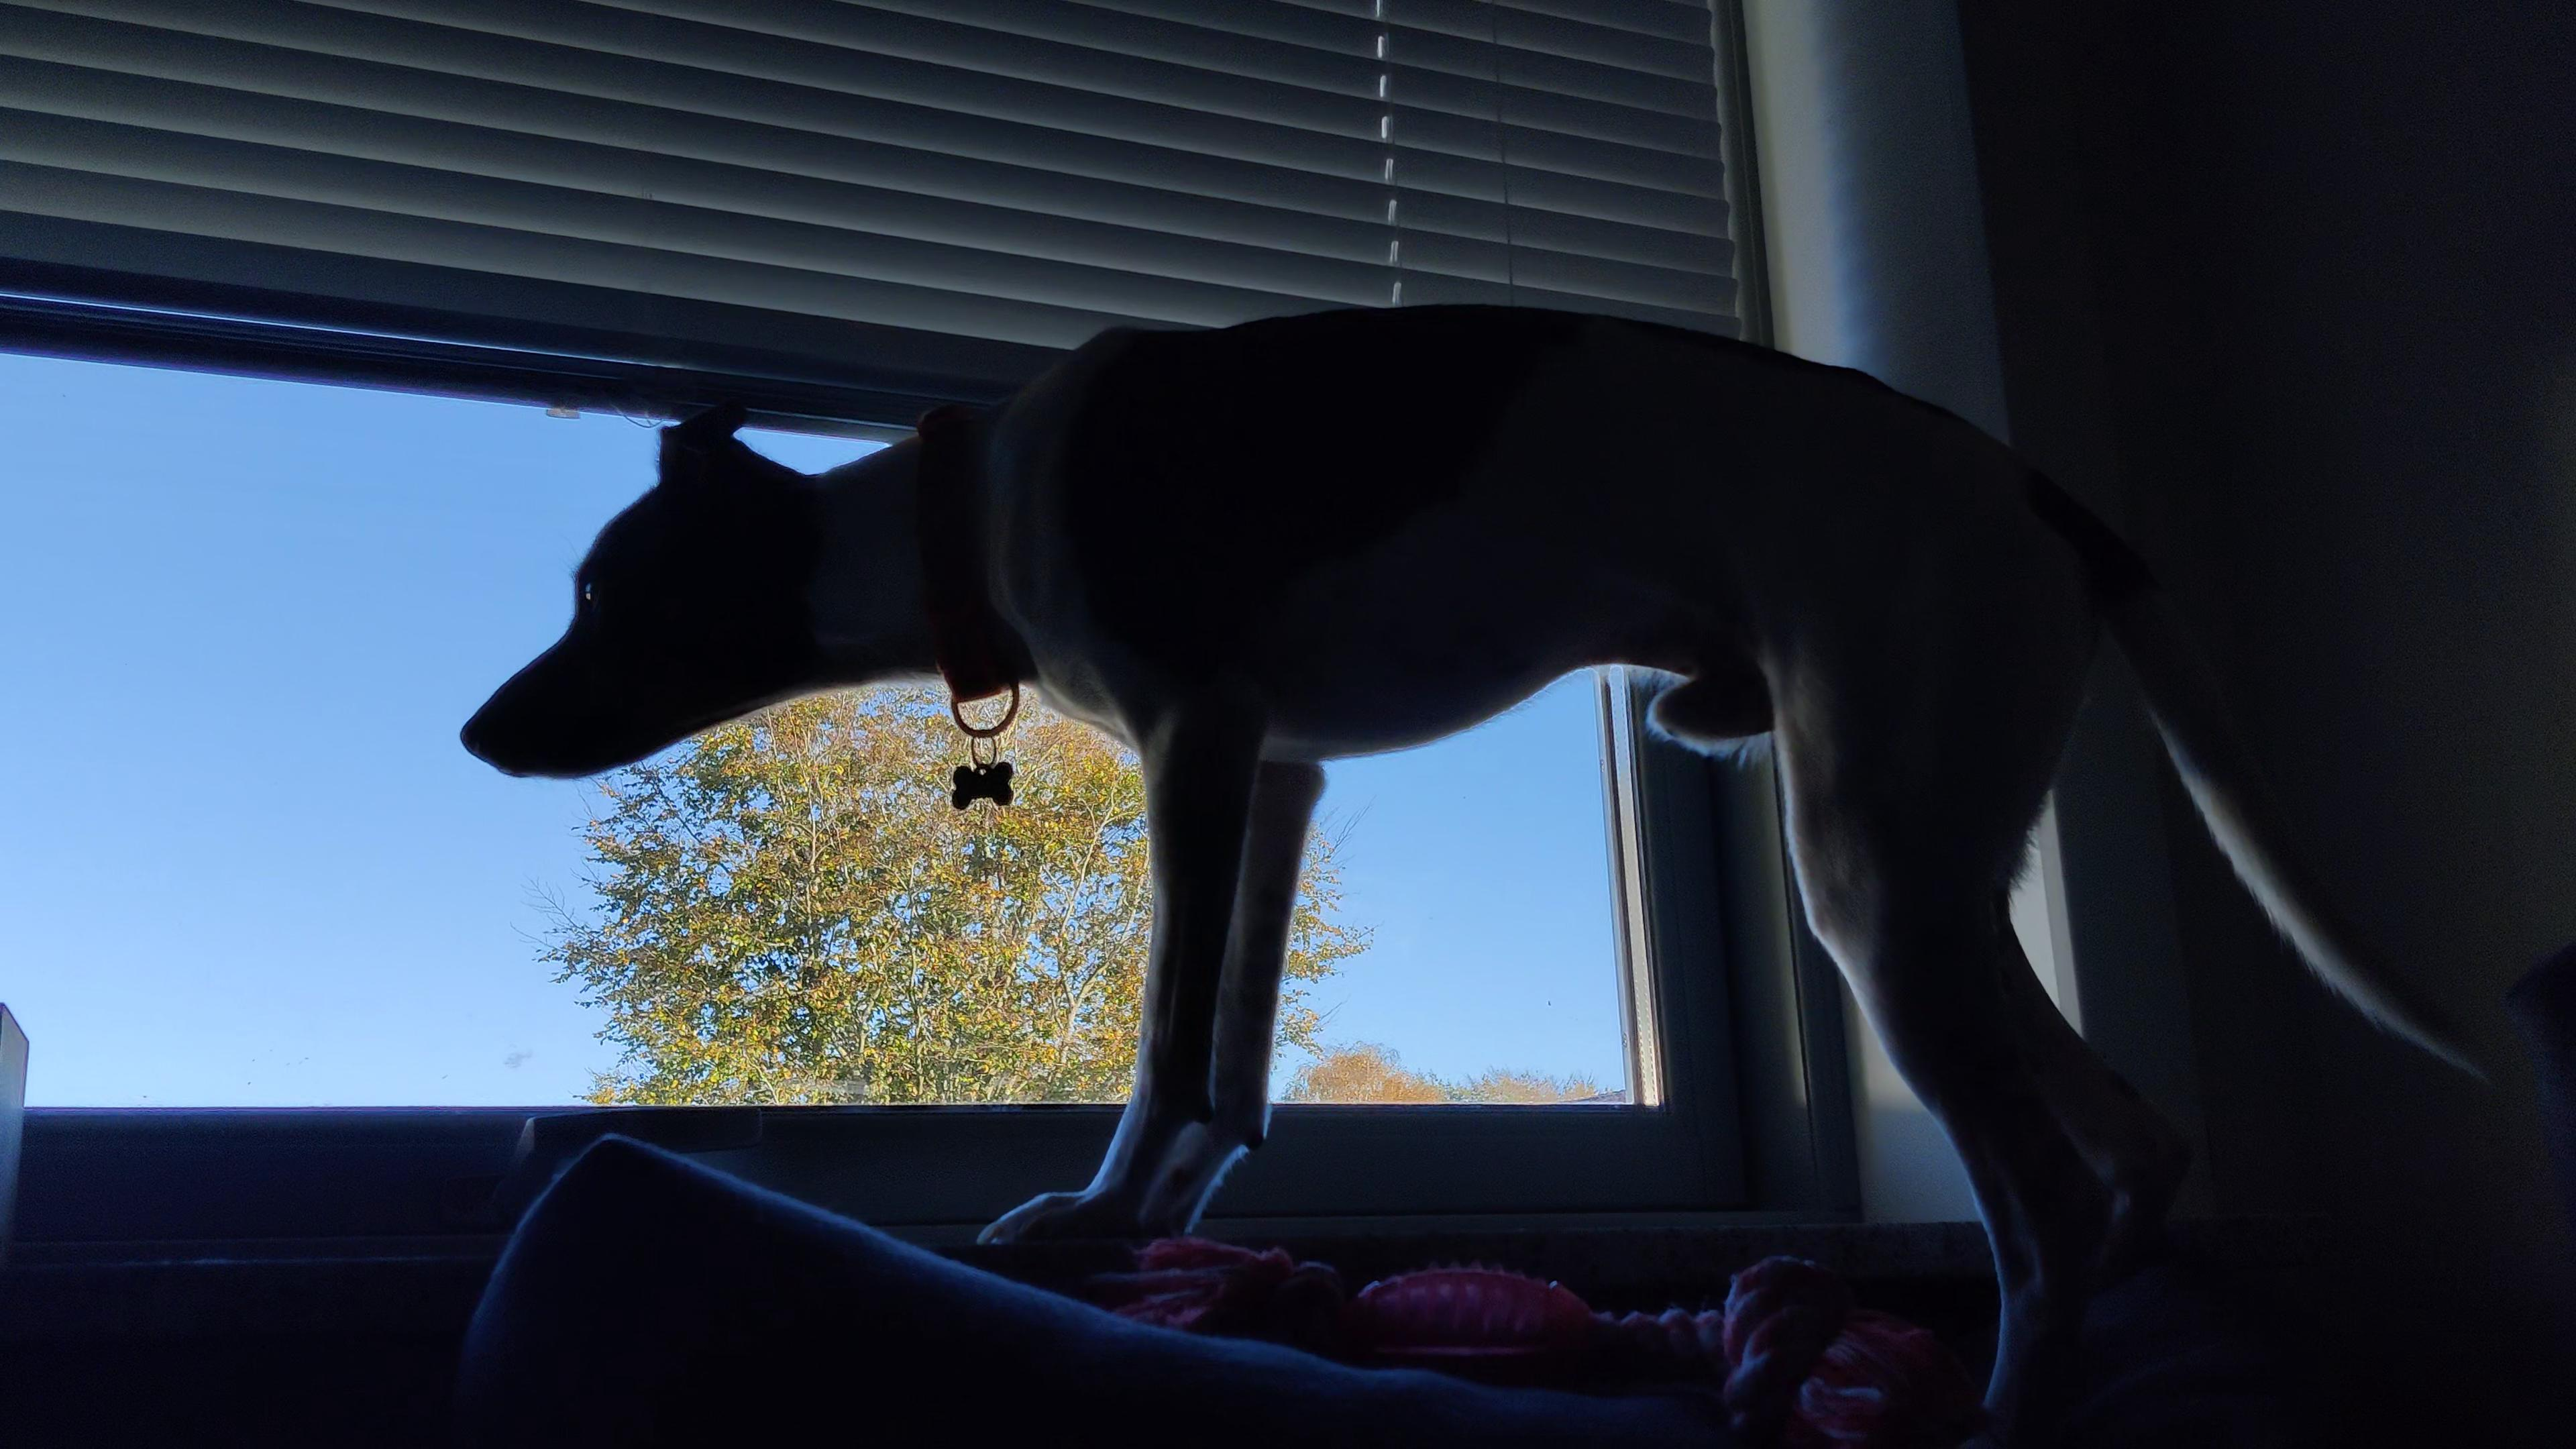Dog: (446, 297, 2537, 1415)
